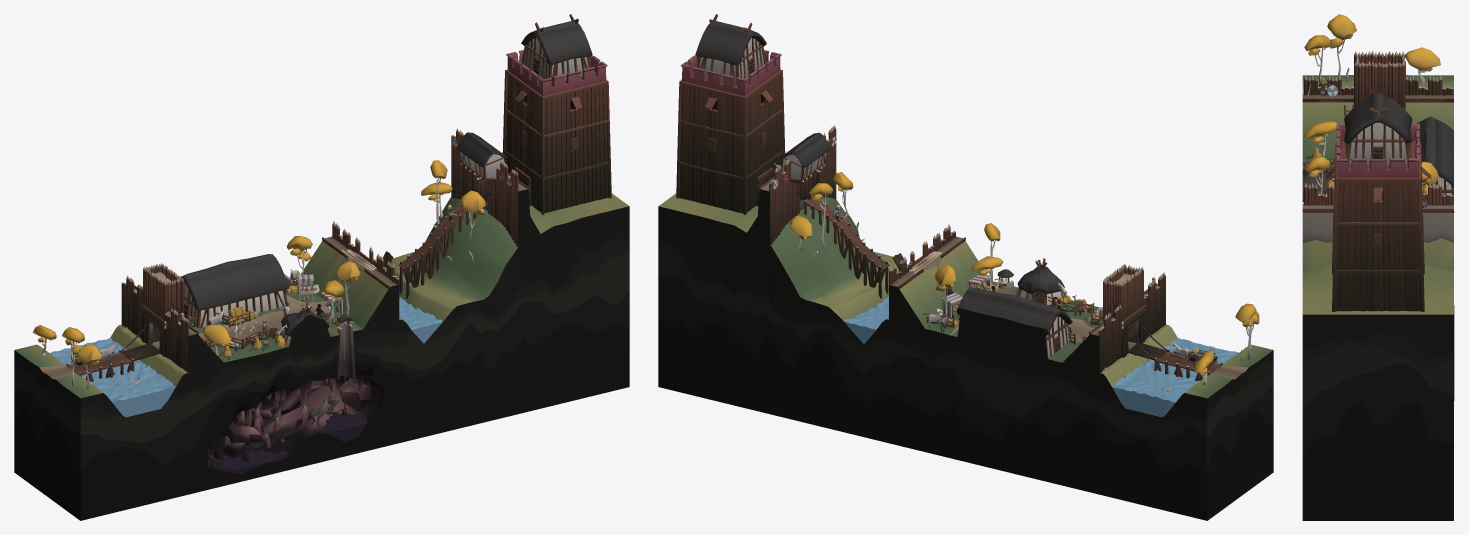
3 renders of one model, left to right at view 1: azimuth 30°, elevation 25°; view 2: azimuth 150°, elevation 25°; view 3: azimuth 270°, elevation 25°, orthographic. The views are drawn at different scales.
Visible parts, largest first — view 1: Geode; view 2: Geode; view 3: Geode.
Part boxes in pixels (box(x1,y1,x2,y2)): Geode: box(14, 14, 629, 520); Geode: box(658, 14, 1273, 520); Geode: box(1302, 14, 1454, 520).
Size of the model in its own units: 28.74 by 17.59 by 6.04.
1 material, 1 textured.
